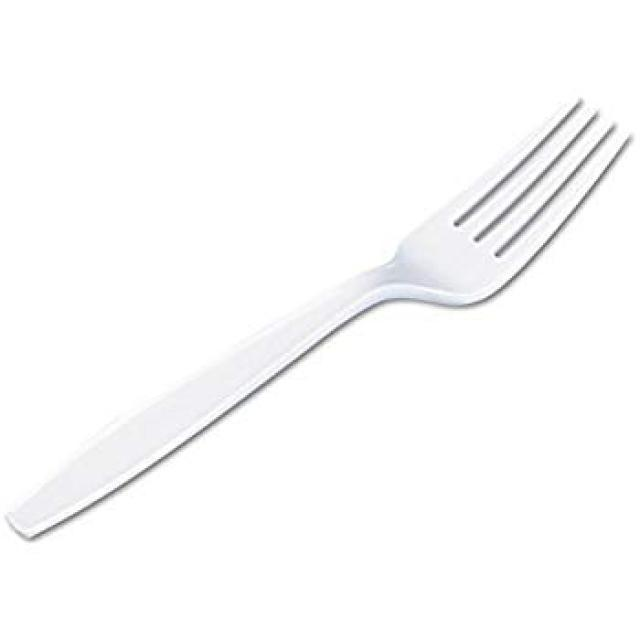spoon: (5, 97, 634, 540)
